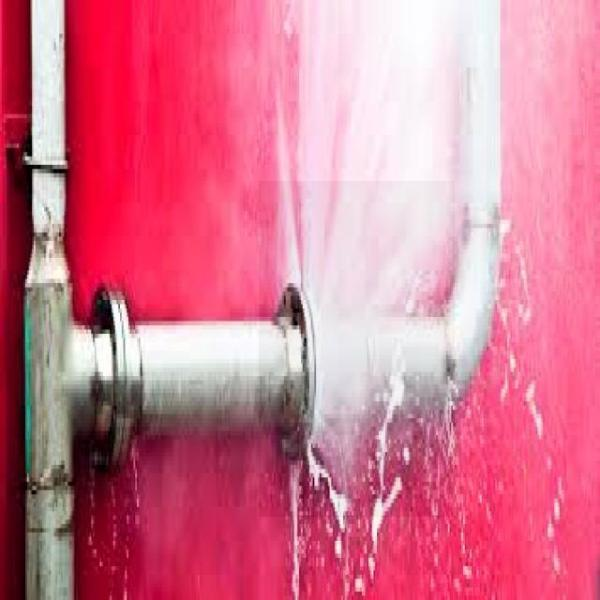pipe burst: (273, 0, 512, 549)
